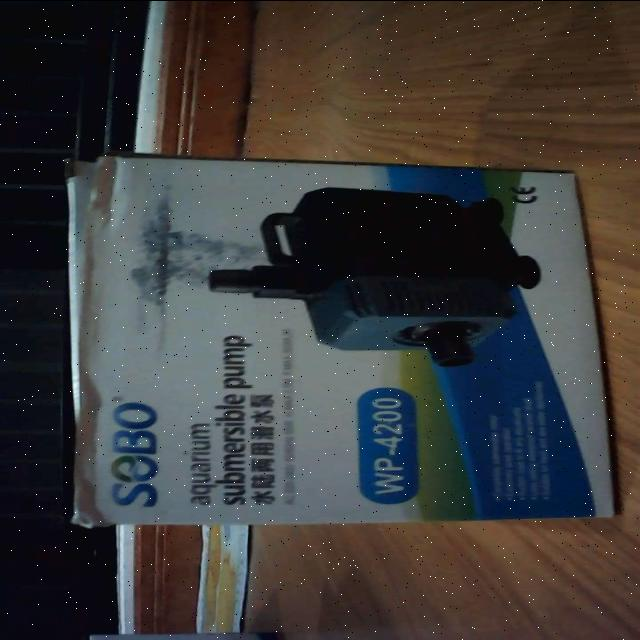SOBO_WP_4200: (54, 149, 618, 531)
